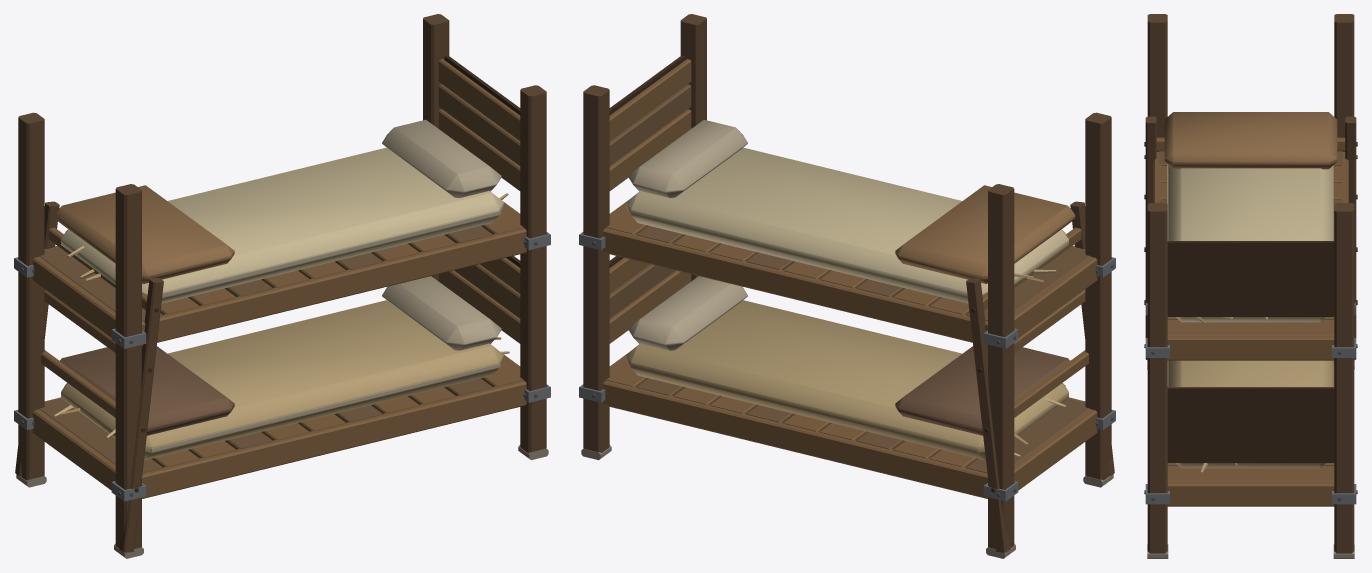
The model's file is SM_LPD_Furn_BunkDouble_01.fbx.
3 renders of one model, left to right at view 1: azimuth 30°, elevation 25°; view 2: azimuth 150°, elevation 25°; view 3: azimuth 270°, elevation 25°, orthographic. The views are drawn at different scales.
Parts seen in each view (by area): view 1: SM_LPD_Furn_BunkDouble_01; view 2: SM_LPD_Furn_BunkDouble_01; view 3: SM_LPD_Furn_BunkDouble_01.
Boxes of the visible parts, bbox=[...] form: SM_LPD_Furn_BunkDouble_01: bbox=[14, 14, 550, 558]; SM_LPD_Furn_BunkDouble_01: bbox=[579, 14, 1115, 558]; SM_LPD_Furn_BunkDouble_01: bbox=[1144, 14, 1357, 558].
Size of the model in its own units: 2 by 1.62 by 0.9.
